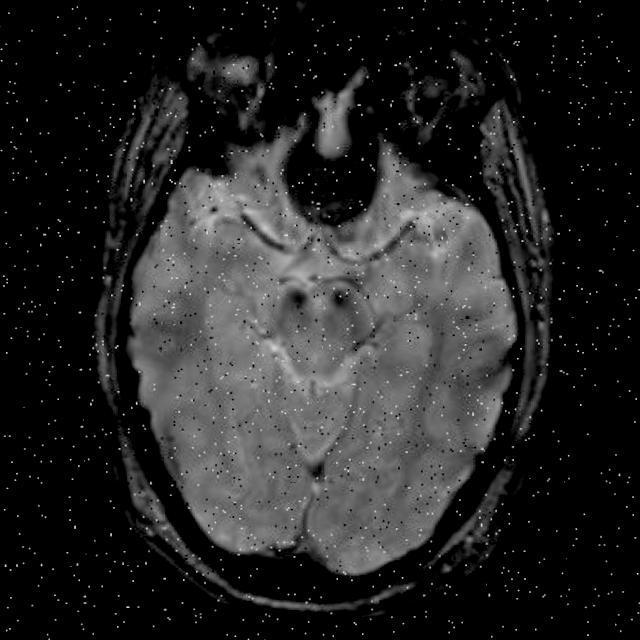LMCI: (266, 122, 400, 245)
